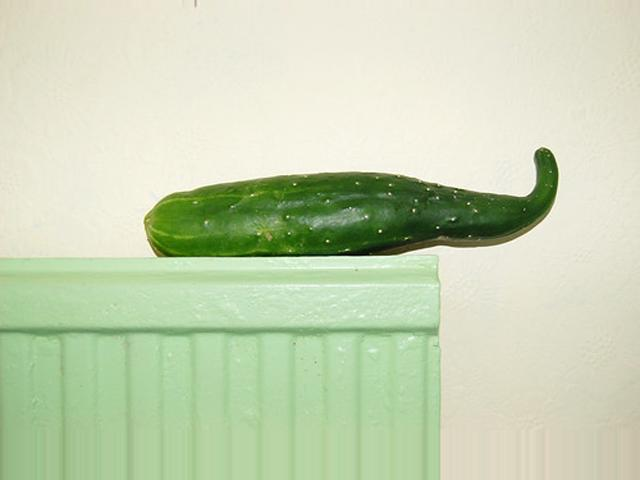cucumber: (145, 148, 559, 257)
